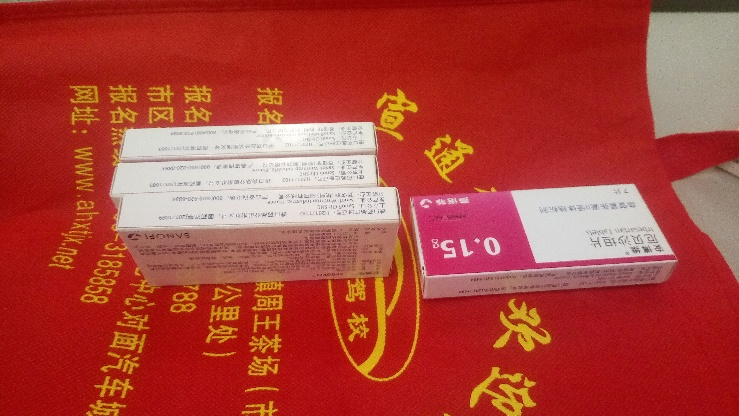pillbox: (413, 187, 674, 299), (115, 186, 394, 289), (120, 121, 376, 159), (114, 156, 380, 190)
